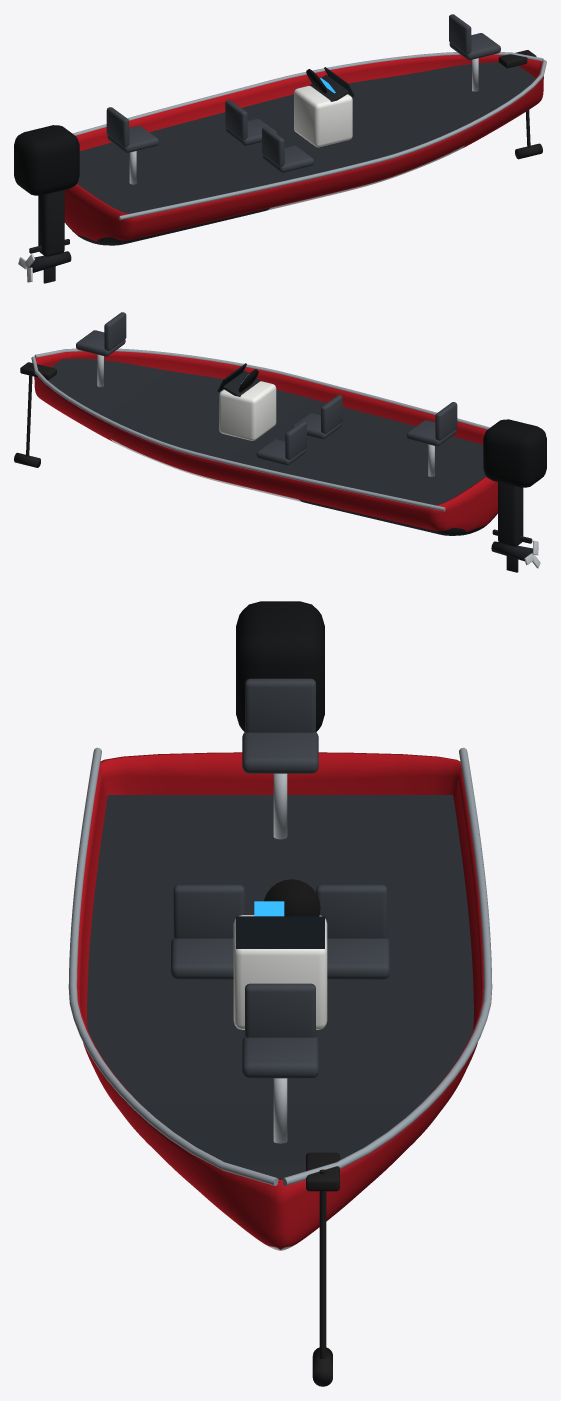
File: bass.glb
The picture shows the model from 3 angles, top to bottom: view 1: azimuth 30°, elevation 25°; view 2: azimuth 150°, elevation 25°; view 3: azimuth 270°, elevation 25°; orthographic projection. The views are drawn at different scales.
Visible parts, largest first — view 1: deck, hull, outboard_cowl, console, gunwale.001, outboard_mid, gunwale, seat_rear_back, seat_p_cush, seat_d_back, seat_front_back, seat_p_back (+6 smaller); view 2: deck, hull, outboard_cowl, console, gunwale, outboard_mid, gunwale.001, seat_front_back, seat_rear_back, seat_d_cush, seat_rear_cush, seat_front_cush (+7 smaller); view 3: deck, hull, outboard_cowl, gunwale.001, gunwale, console, seat_front_back, seat_rear_back, seat_p_back, seat_d_back, seat_front_cush, seat_rear_cush (+8 smaller).
Boxes of the visible parts, x1=… form: deck: x1=77, y1=62, x2=535, y2=213; hull: x1=64, y1=54, x2=543, y2=245; outboard_cowl: x1=14, y1=125, x2=79, y2=195; console: x1=294, y1=86, x2=352, y2=147; gunwale.001: x1=118, y1=60, x2=546, y2=220; outboard_mid: x1=38, y1=190, x2=64, y2=256; gunwale: x1=72, y1=52, x2=543, y2=135; seat_rear_back: x1=106, y1=107, x2=129, y2=147; seat_p_cush: x1=263, y1=145, x2=314, y2=172; seat_d_back: x1=225, y1=100, x2=247, y2=139; seat_front_back: x1=449, y1=14, x2=471, y2=54; seat_p_back: x1=262, y1=127, x2=284, y2=166; deck: x1=47, y1=358, x2=485, y2=505; hull: x1=34, y1=351, x2=497, y2=535; outboard_cowl: x1=483, y1=419, x2=546, y2=487; console: x1=219, y1=381, x2=276, y2=440; gunwale: x1=31, y1=356, x2=445, y2=511; outboard_mid: x1=498, y1=482, x2=523, y2=546; gunwale.001: x1=34, y1=348, x2=489, y2=429; seat_front_back: x1=104, y1=312, x2=126, y2=350; seat_rear_back: x1=435, y1=402, x2=457, y2=440; seat_d_cush: x1=256, y1=439, x2=306, y2=465; seat_rear_cush: x1=406, y1=420, x2=456, y2=446; seat_front_cush: x1=76, y1=330, x2=125, y2=356; deck: x1=87, y1=795, x2=473, y2=1178; hull: x1=77, y1=752, x2=483, y2=1250; outboard_cowl: x1=236, y1=601, x2=324, y2=731; gunwale.001: x1=68, y1=747, x2=278, y2=1185; gunwale: x1=282, y1=747, x2=492, y2=1185; console: x1=233, y1=915, x2=327, y2=1029; seat_front_back: x1=245, y1=983, x2=315, y2=1037; seat_rear_back: x1=245, y1=678, x2=315, y2=732; seat_p_back: x1=173, y1=884, x2=244, y2=938; seat_d_back: x1=316, y1=884, x2=387, y2=938; seat_front_cush: x1=242, y1=1036, x2=318, y2=1078; seat_rear_cush: x1=242, y1=732, x2=318, y2=773.
Size of the model in its own units: 6.98 by 2.05 by 2.49.
